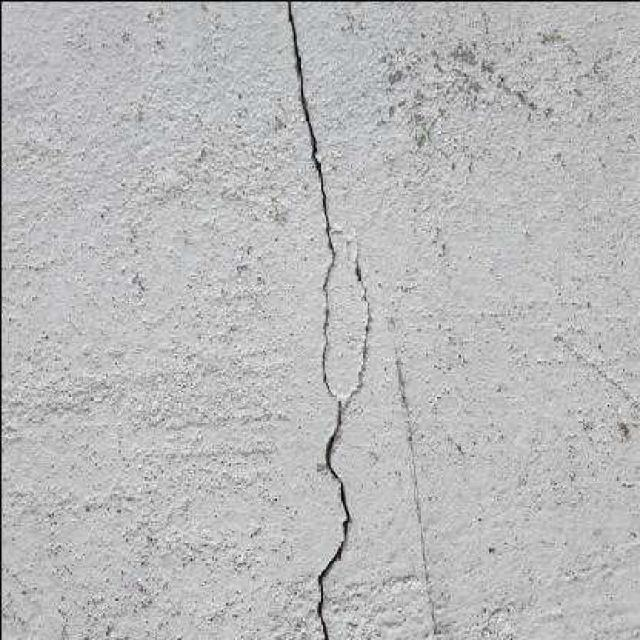D00: (286, 0, 348, 640), (347, 258, 369, 399)
